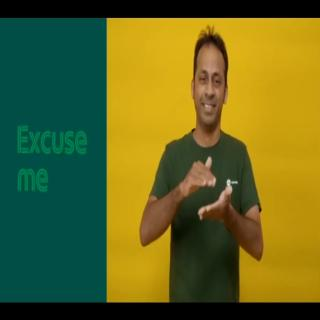ExcuseMe: (138, 26, 266, 308)
